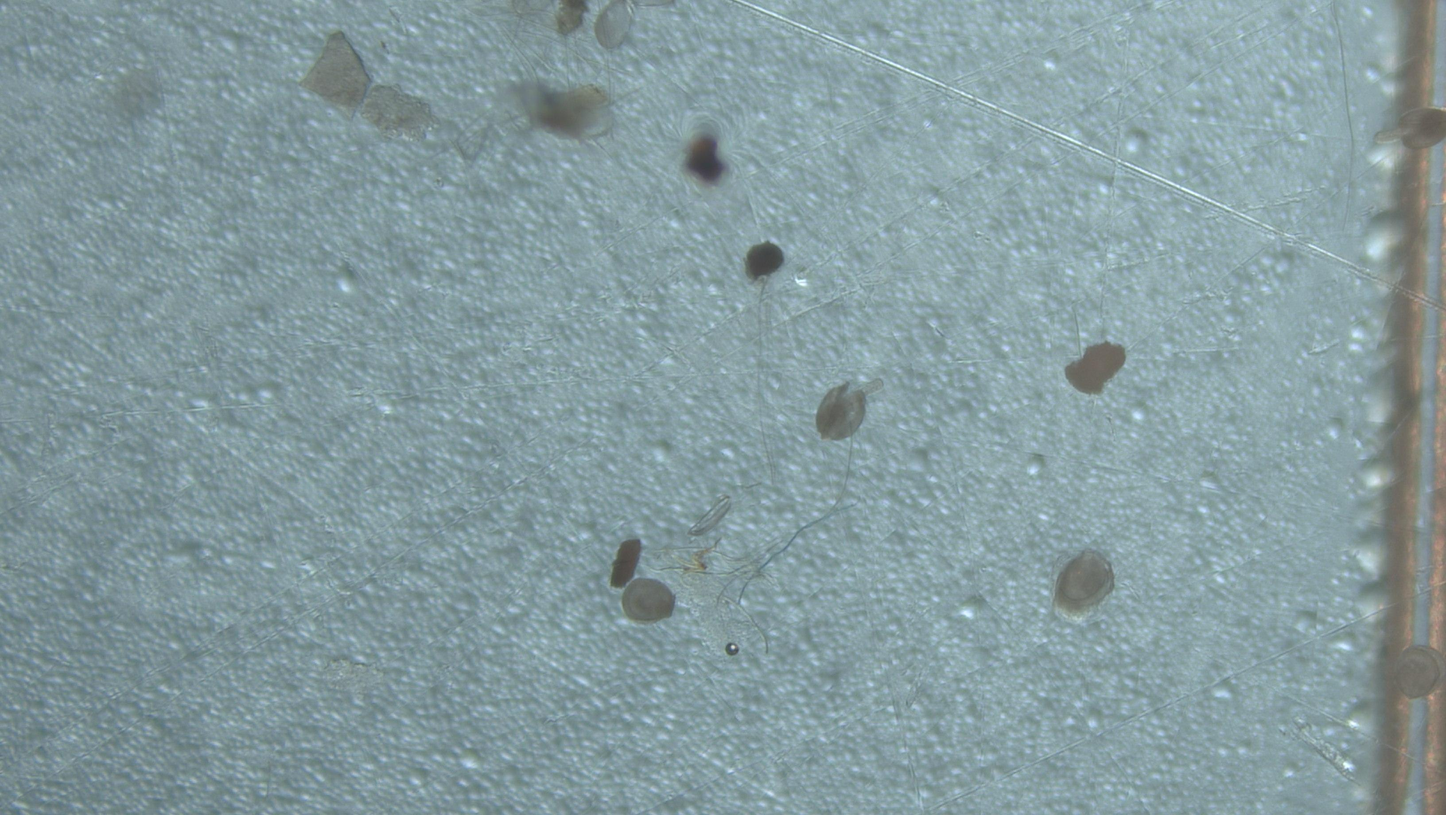dead: (595, 0, 634, 50)
live: (1053, 550, 1115, 618), (816, 379, 883, 441), (1396, 645, 1446, 699), (622, 578, 676, 623)
